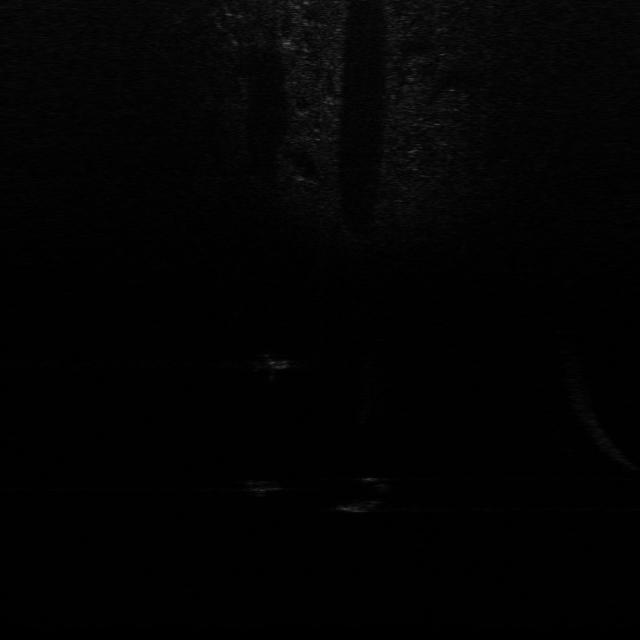cube: (242, 476, 292, 495)
square cage: (258, 348, 301, 373)
tyre: (337, 474, 393, 514)
